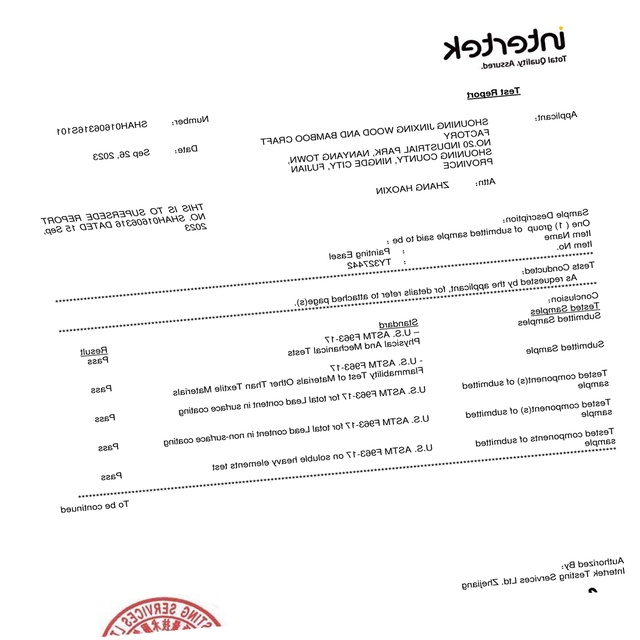intertek: (439, 25, 568, 62)
